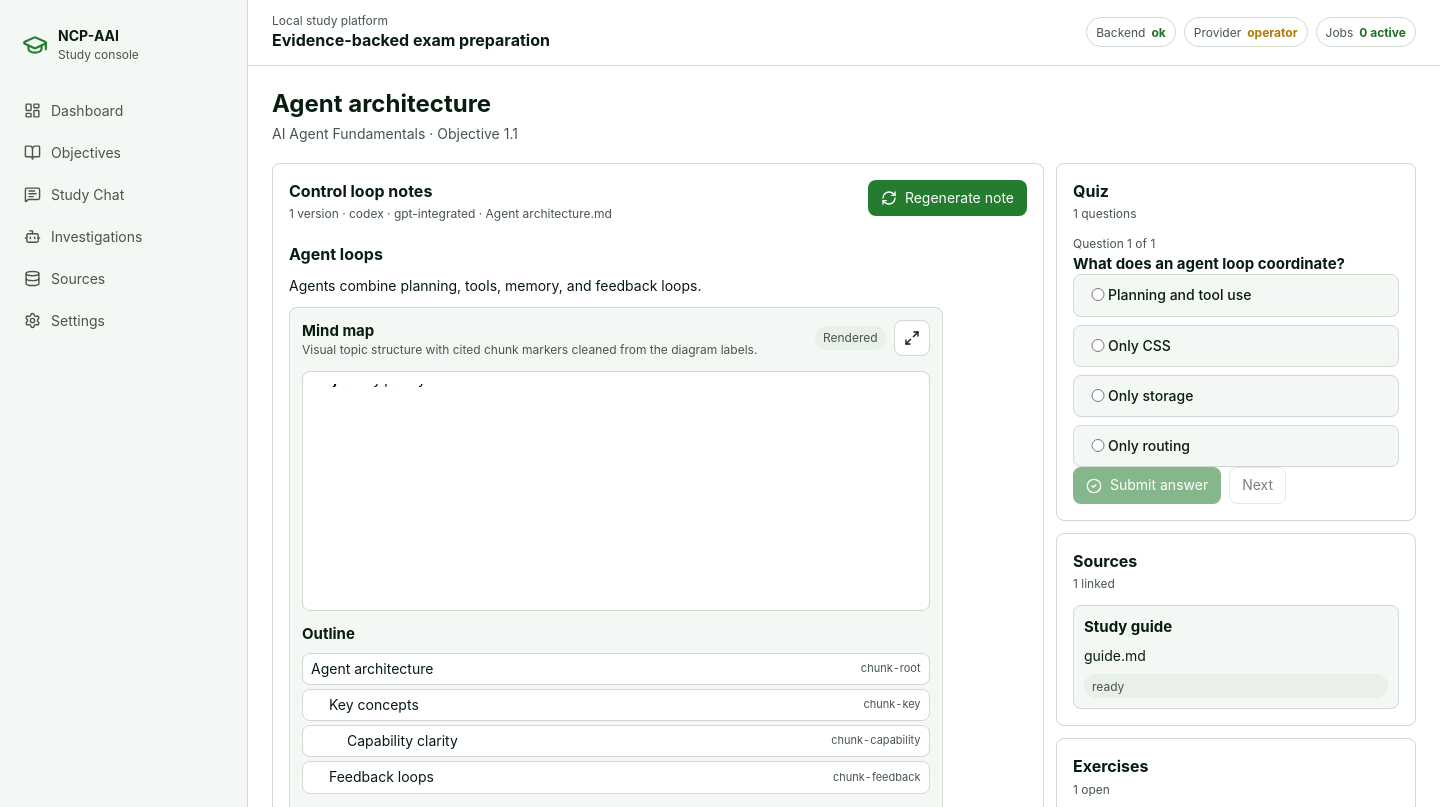
Test case: NCP-AAI frontend › submits a quiz answer and renders correctness with rationale
Click the radio button labelled "Planning and tool use".
click(1098, 295)  # box [1089,288,1107,301]
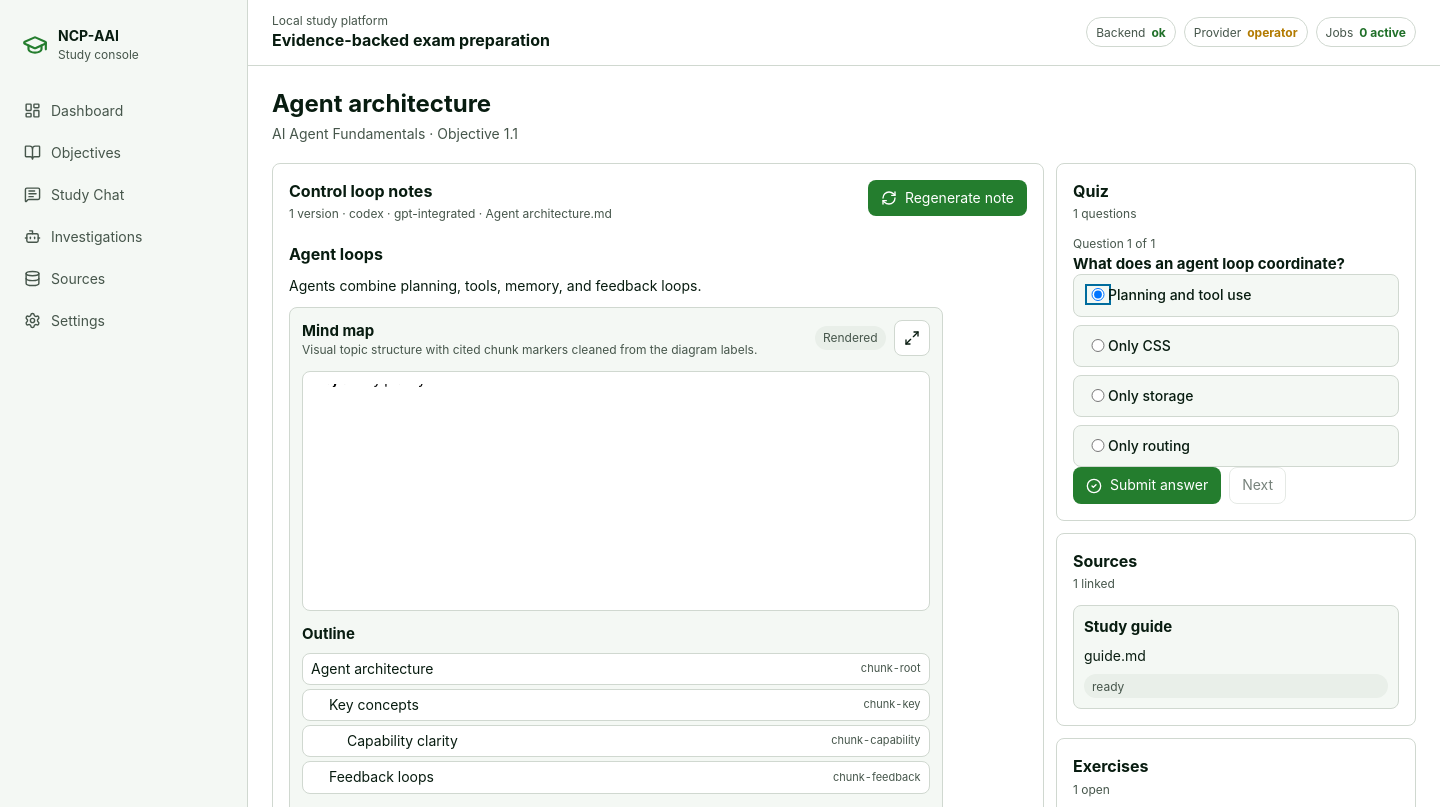
Click the button "Submit answer".
click(1147, 486)  # box [1073,468,1221,504]
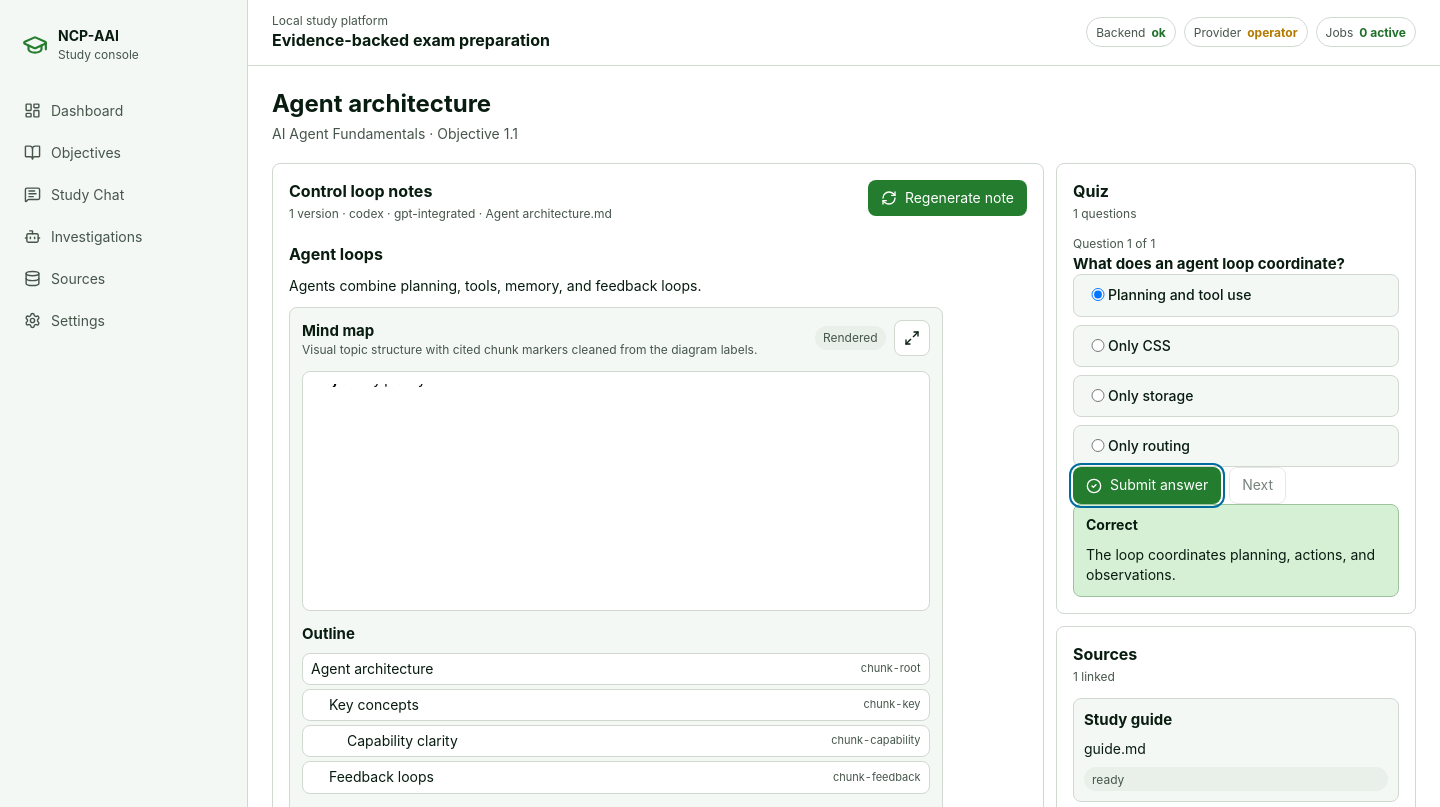
Now the text "Correct" is shown, box [1086,516,1138,533]
Now the text "The loop coordinates planning, actions, and observations." is shown, box [1086,545,1386,586]
